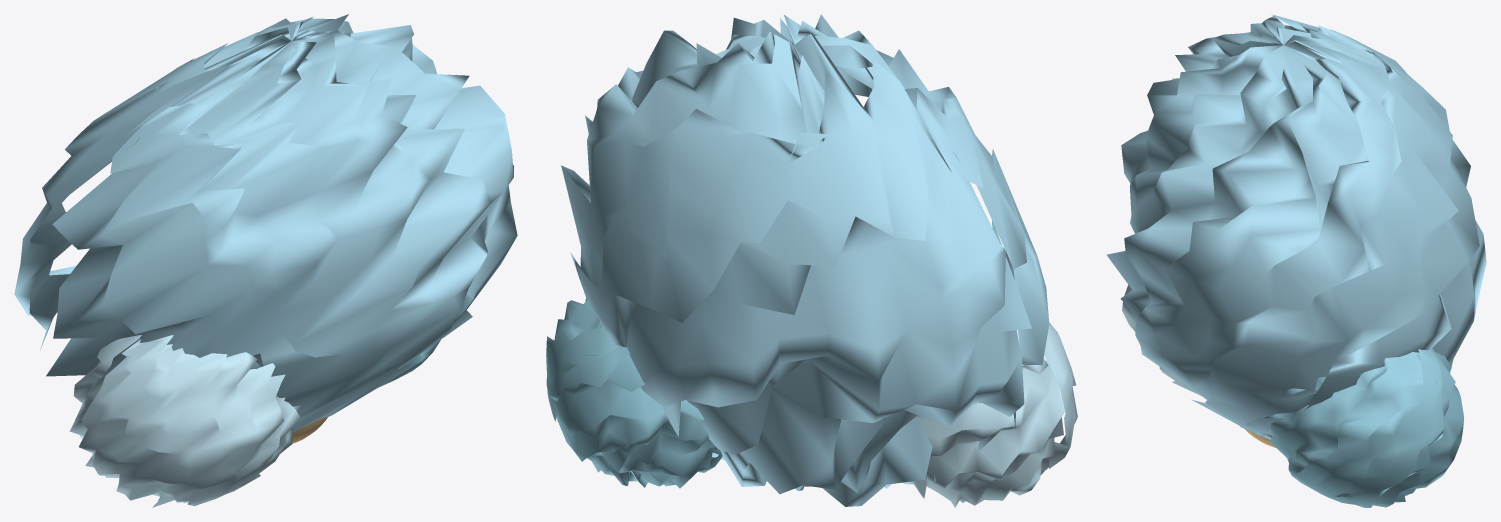
File: enzyme.glb
The picture shows the model from 3 angles, left to right: view 1: azimuth 30°, elevation 25°; view 2: azimuth 150°, elevation 25°; view 3: azimuth 270°, elevation 25°; orthographic projection. The views are drawn at different scales.
Visible parts, largest first — view 1: protein_backbone, active_site_lobe; view 2: protein_backbone, substrate_binding, active_site_lobe; view 3: protein_backbone, substrate_binding, active_site_lobe.
Boxes of the visible parts, box(x1,y1,x2,y2) form: protein_backbone: box(14, 14, 517, 431); active_site_lobe: box(69, 335, 300, 507); protein_backbone: box(561, 14, 1049, 506); substrate_binding: box(546, 298, 722, 488); active_site_lobe: box(902, 322, 1077, 507); protein_backbone: box(1106, 14, 1486, 439); substrate_binding: box(1264, 348, 1464, 507); active_site_lobe: box(1122, 284, 1200, 395).
Bounding box in the file's own units: 1.3 × 1.18 × 0.9526.
